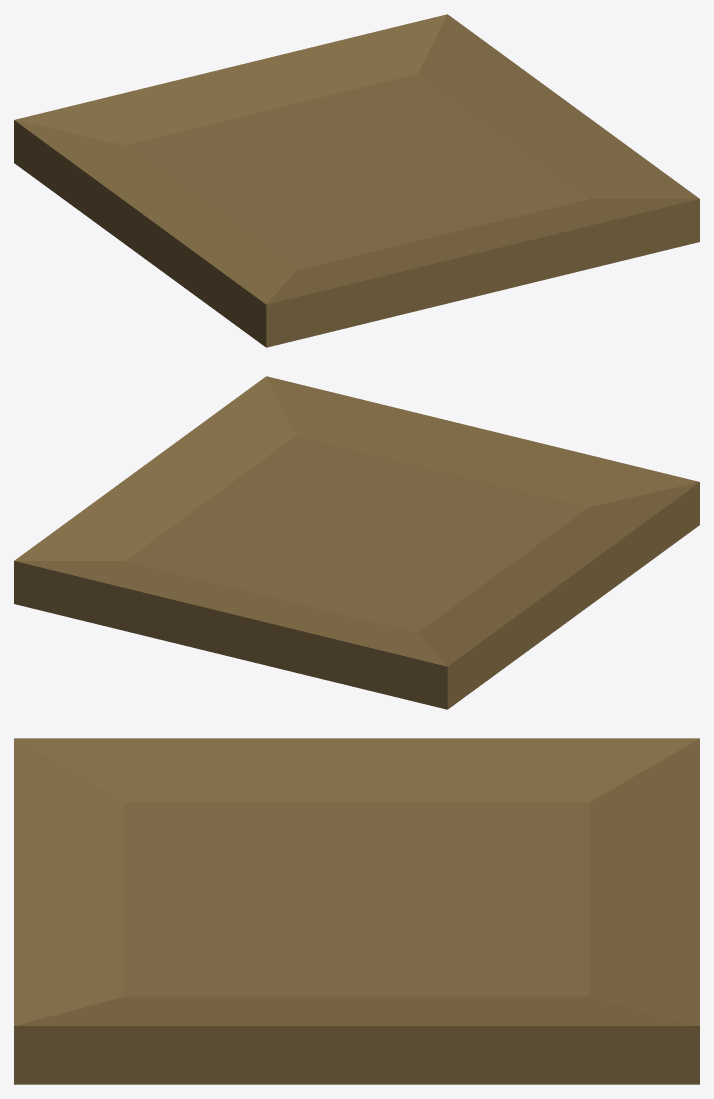
The model's file is Itr_Chair3_Seat_01.FBX.
The picture shows the model from 3 angles, top to bottom: view 1: azimuth 30°, elevation 25°; view 2: azimuth 150°, elevation 25°; view 3: azimuth 270°, elevation 25°; orthographic projection. The views are drawn at different scales.
Parts seen in each view (by area): view 1: Itr_Chair3_Seat_01; view 2: Itr_Chair3_Seat_01; view 3: Itr_Chair3_Seat_01.
Part boxes in pixels (bbox=[...]): Itr_Chair3_Seat_01: bbox=[14, 14, 699, 347]; Itr_Chair3_Seat_01: bbox=[14, 376, 699, 709]; Itr_Chair3_Seat_01: bbox=[14, 738, 699, 1084].
Bounding box in the file's own units: 15.84 × 1.95 × 15.97.
